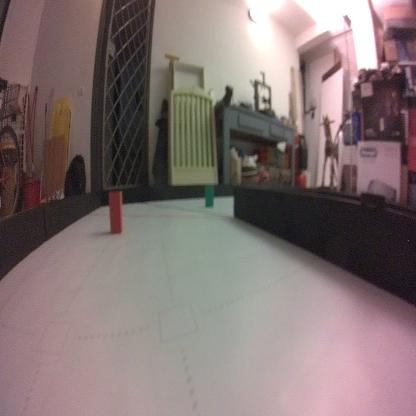green: (204, 184, 215, 209)
red: (107, 190, 124, 235)
